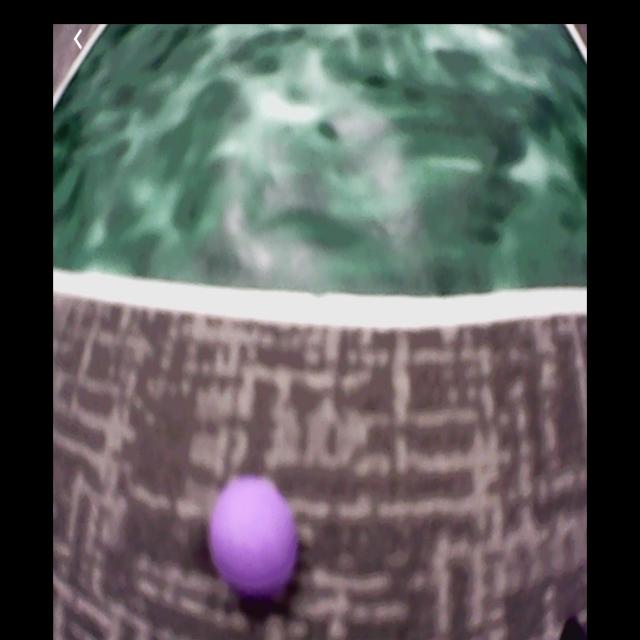ball: (210, 480, 296, 589)
